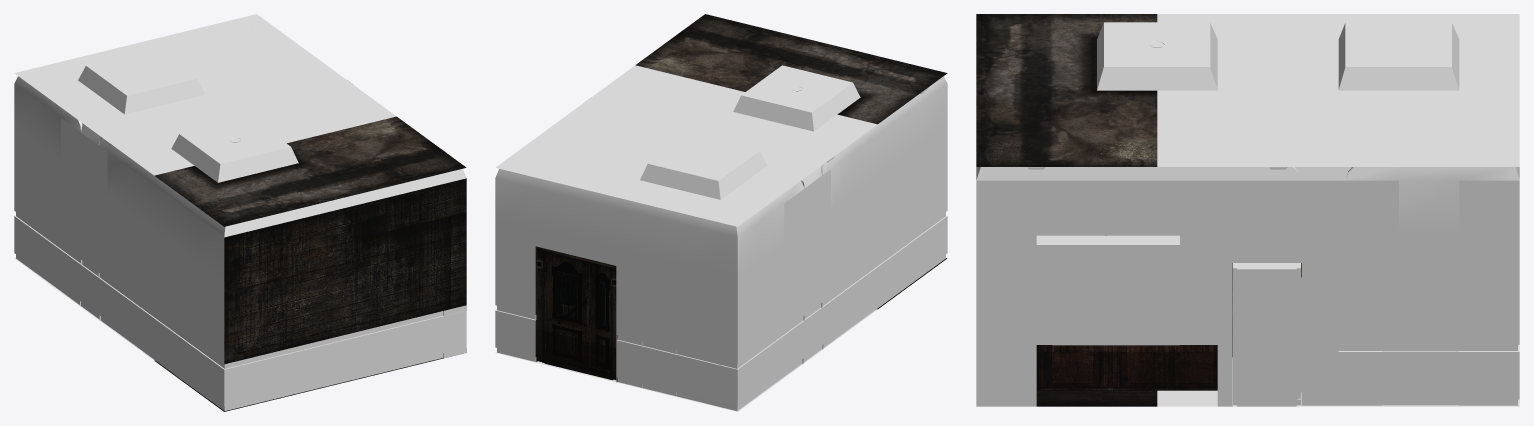
File: old_bar_2.fbx
3 renders of one model, left to right at view 1: azimuth 30°, elevation 25°; view 2: azimuth 150°, elevation 25°; view 3: azimuth 270°, elevation 25°, orthographic. The views are drawn at different scales.
Visible parts, largest first — view 1: node_178b5b5a_cae2_4809_a5e6_7876fe65a65d_mesh0, node_907fce2f_1fed_42d9_8439_3d2693fc1a0a_mesh0, node_2e6d24f2_7b85_42a3_b91a_6e9eec1479e9_mesh0, node_76b3c3a8_0ca5_499b_b2ed_a1b42bf385e2_mesh0, node_e7bf2b2f_cb52_4118_b6dc_acc8ef490ba5_mesh0; view 2: node_178b5b5a_cae2_4809_a5e6_7876fe65a65d_mesh0, node_907fce2f_1fed_42d9_8439_3d2693fc1a0a_mesh0, node_e7bf2b2f_cb52_4118_b6dc_acc8ef490ba5_mesh0, node_76b3c3a8_0ca5_499b_b2ed_a1b42bf385e2_mesh0, node_036444e9_1467_4084_8698_bc88f683e0a9_mesh0, node_5a6ce698_f6bb_4c39_a3ca_6d203e7f296f_mesh0; view 3: node_e7bf2b2f_cb52_4118_b6dc_acc8ef490ba5_mesh0, node_907fce2f_1fed_42d9_8439_3d2693fc1a0a_mesh0, node_178b5b5a_cae2_4809_a5e6_7876fe65a65d_mesh0, node_76b3c3a8_0ca5_499b_b2ed_a1b42bf385e2_mesh0, node_d932e2ab_f1e7_4a12_ac65_ed85178b2895_mesh0, node_2e6d24f2_7b85_42a3_b91a_6e9eec1479e9_mesh0, node_5a6ce698_f6bb_4c39_a3ca_6d203e7f296f_mesh0, node_62a5894d_7f03_4fff_94d6_f65e718f513e_mesh0.
Boxes of the visible parts, x1,y1,x2,y2 form: node_178b5b5a_cae2_4809_a5e6_7876fe65a65d_mesh0: (14,76,466,410); node_907fce2f_1fed_42d9_8439_3d2693fc1a0a_mesh0: (14,14,396,182); node_2e6d24f2_7b85_42a3_b91a_6e9eec1479e9_mesh0: (224,178,466,364); node_76b3c3a8_0ca5_499b_b2ed_a1b42bf385e2_mesh0: (154,116,466,411); node_e7bf2b2f_cb52_4118_b6dc_acc8ef490ba5_mesh0: (61,118,107,278); node_178b5b5a_cae2_4809_a5e6_7876fe65a65d_mesh0: (495,30,947,410); node_907fce2f_1fed_42d9_8439_3d2693fc1a0a_mesh0: (495,65,877,226); node_e7bf2b2f_cb52_4118_b6dc_acc8ef490ba5_mesh0: (495,169,830,344); node_76b3c3a8_0ca5_499b_b2ed_a1b42bf385e2_mesh0: (635,14,947,309); node_036444e9_1467_4084_8698_bc88f683e0a9_mesh0: (535,246,617,381); node_5a6ce698_f6bb_4c39_a3ca_6d203e7f296f_mesh0: (495,309,877,411); node_e7bf2b2f_cb52_4118_b6dc_acc8ef490ba5_mesh0: (976,180,1519,345); node_907fce2f_1fed_42d9_8439_3d2693fc1a0a_mesh0: (1097,14,1519,166); node_178b5b5a_cae2_4809_a5e6_7876fe65a65d_mesh0: (976,167,1519,406); node_76b3c3a8_0ca5_499b_b2ed_a1b42bf385e2_mesh0: (976,14,1157,406); node_d932e2ab_f1e7_4a12_ac65_ed85178b2895_mesh0: (1233,263,1300,406); node_2e6d24f2_7b85_42a3_b91a_6e9eec1479e9_mesh0: (1036,263,1301,390); node_5a6ce698_f6bb_4c39_a3ca_6d203e7f296f_mesh0: (1157,357,1519,406); node_62a5894d_7f03_4fff_94d6_f65e718f513e_mesh0: (1382,347,1458,405).
Size of the model in its own units: 12.95 by 9.67 by 18.29.
Materials: 13 (13 with a texture image).
